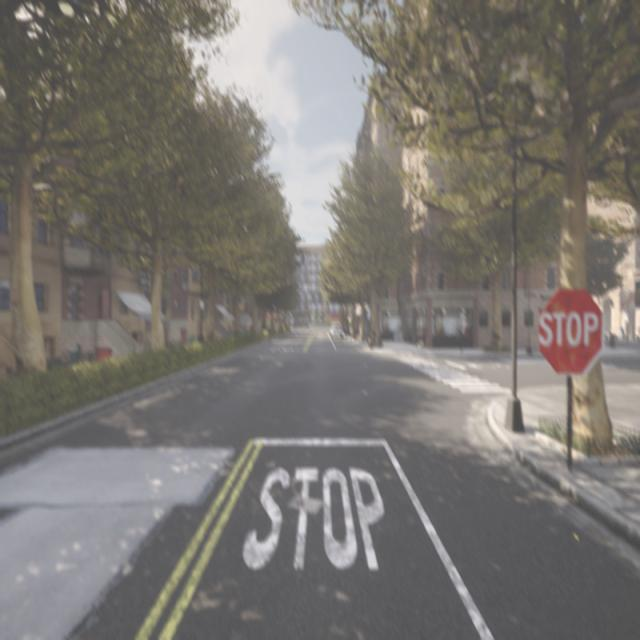stop sign: (534, 284, 604, 378), (538, 308, 600, 349)
